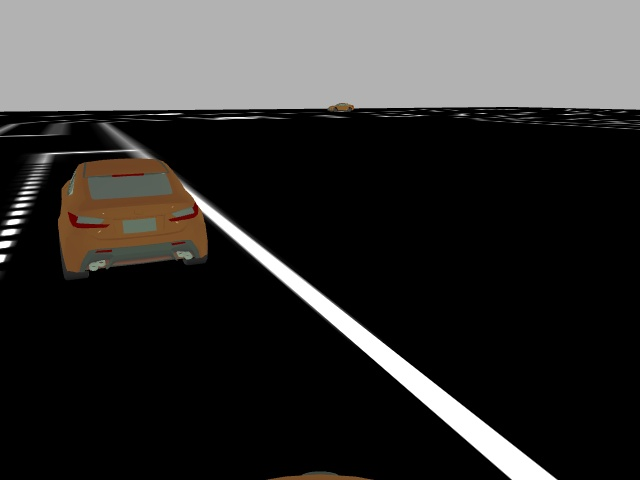obstacle_car: (54, 160, 215, 282)
